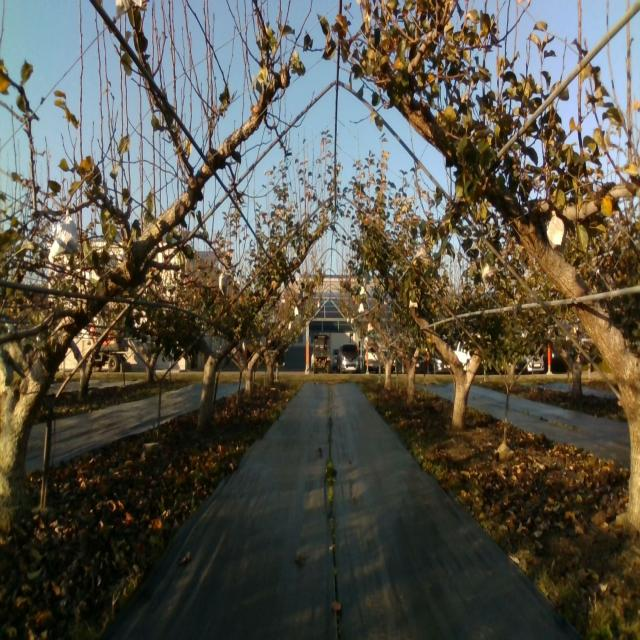pearbags: (48, 208, 78, 264), (546, 209, 565, 255), (481, 264, 493, 291), (219, 270, 229, 296), (416, 244, 427, 266)
